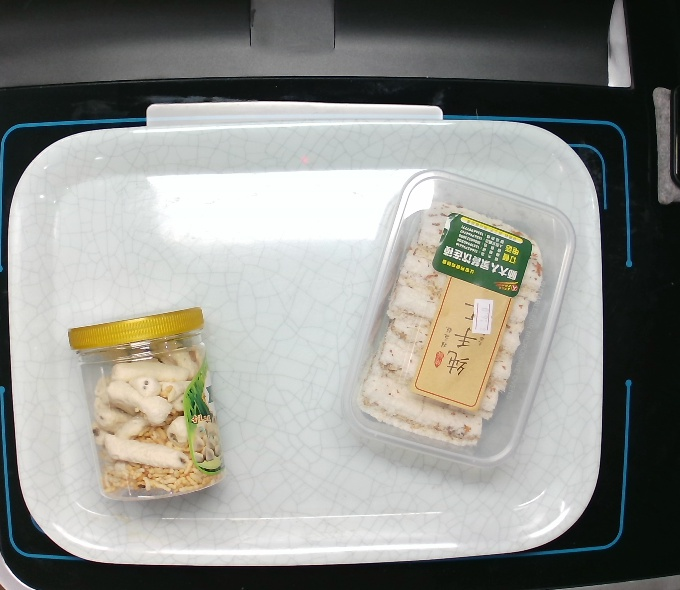wcq-GuiHuaGao: (337, 165, 579, 468)
wcq-MaiYaTang: (63, 298, 232, 509)
